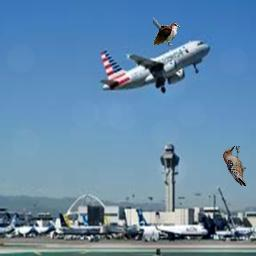Cuckoo: (153, 7, 180, 47)
Woodpecker: (223, 146, 246, 186)
